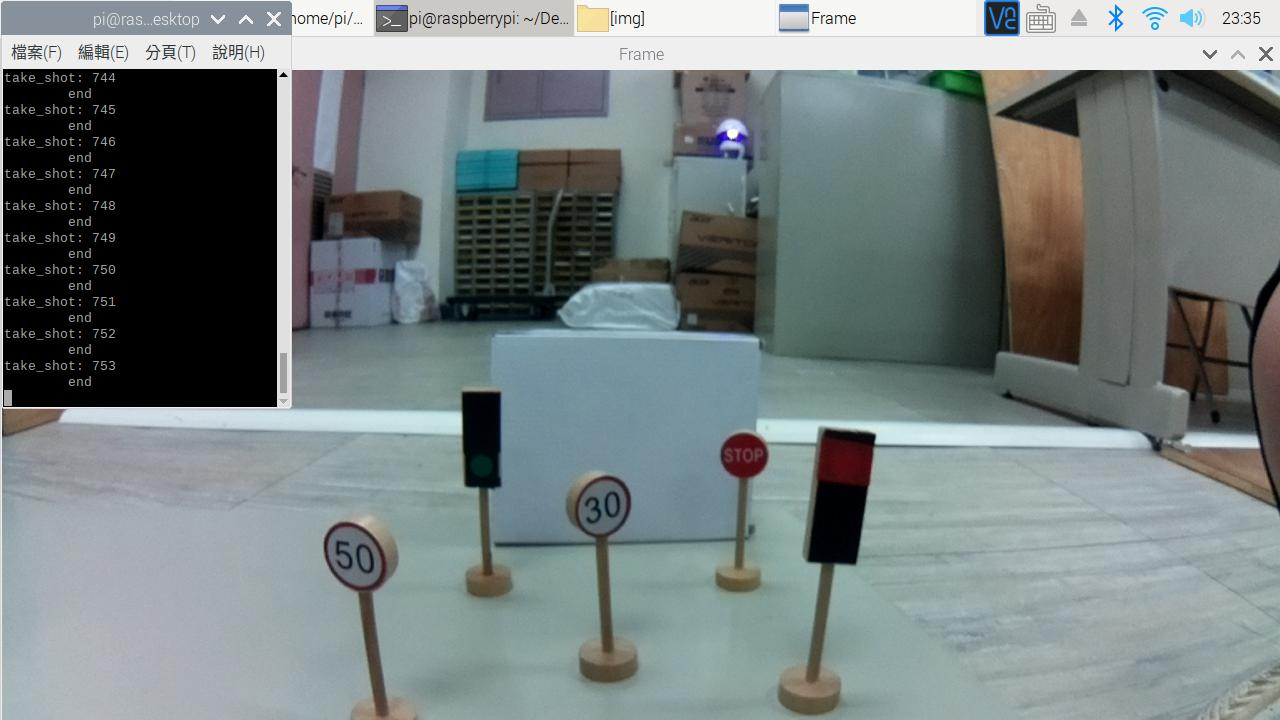Green: (455, 381, 511, 499)
Red: (800, 418, 895, 581)
Speed30: (556, 473, 655, 542)
Speed50: (321, 507, 408, 599)
Stop: (709, 425, 774, 483)
